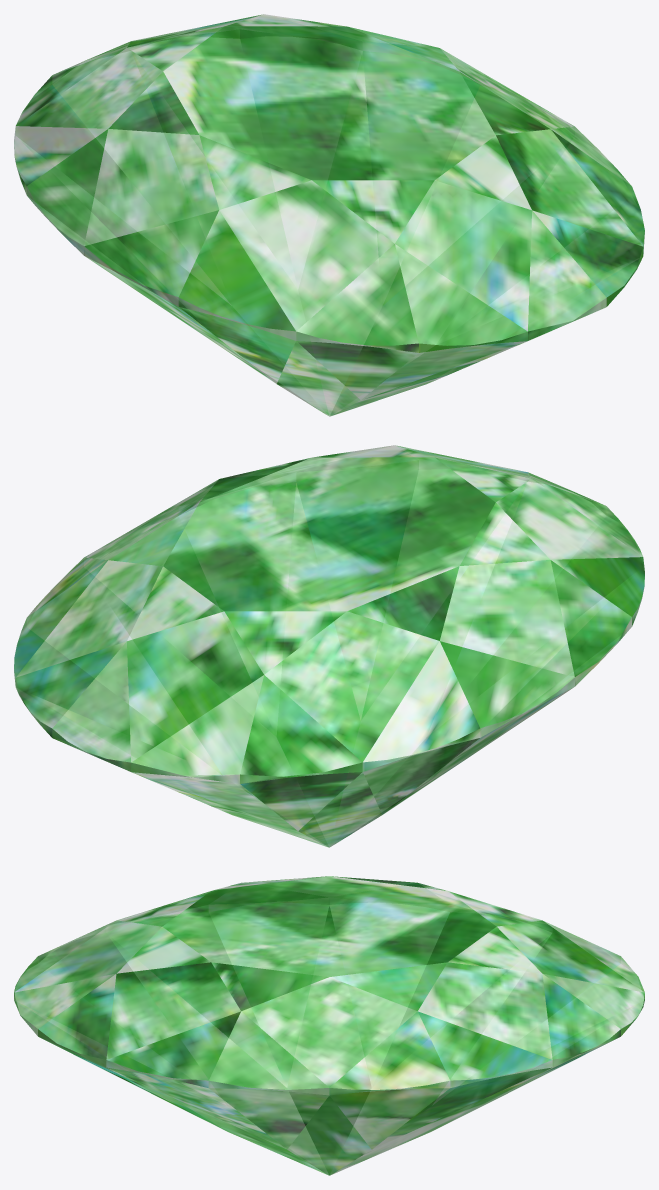
The model's file is emerald.dae.
3 renders of one model, top to bottom at view 1: azimuth 30°, elevation 25°; view 2: azimuth 150°, elevation 25°; view 3: azimuth 270°, elevation 25°, orthographic. The views are drawn at different scales.
Visible parts, largest first — view 1: S_emerald1; view 2: S_emerald1; view 3: S_emerald1.
Boxes of the visible parts, x1,y1,x2,y2 form: S_emerald1: (14, 14, 644, 416); S_emerald1: (14, 445, 644, 847); S_emerald1: (14, 876, 644, 1175).
Size of the model in its own units: 0.025 by 0.0153 by 0.035.
Materials: 1 (1 with a texture image).
